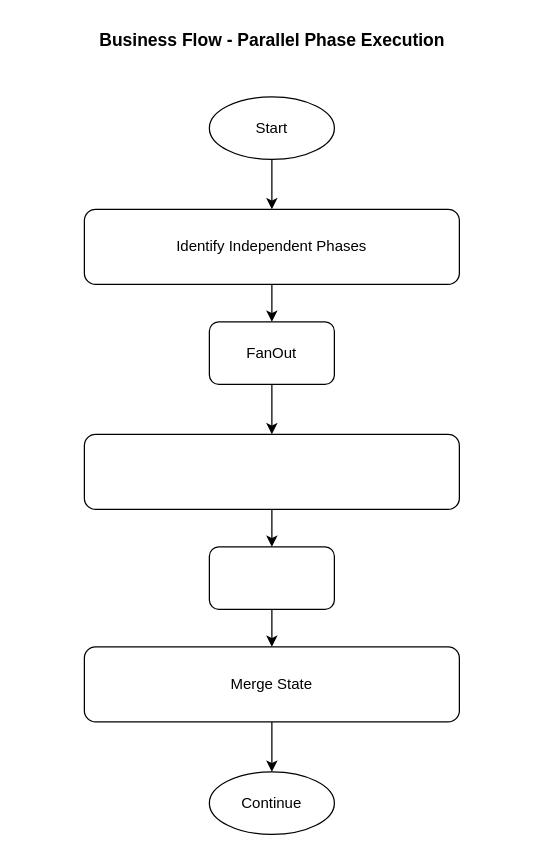
The diagram is 543 pixels wide and 856 high, and some of its shapes have lost their labels. The shapes that lost their labels are listed below. From the top down, each one's centre as x and y in pixels, then its label:
At [271,471]: "Parallel Phases".
At [271,577]: "Join".
